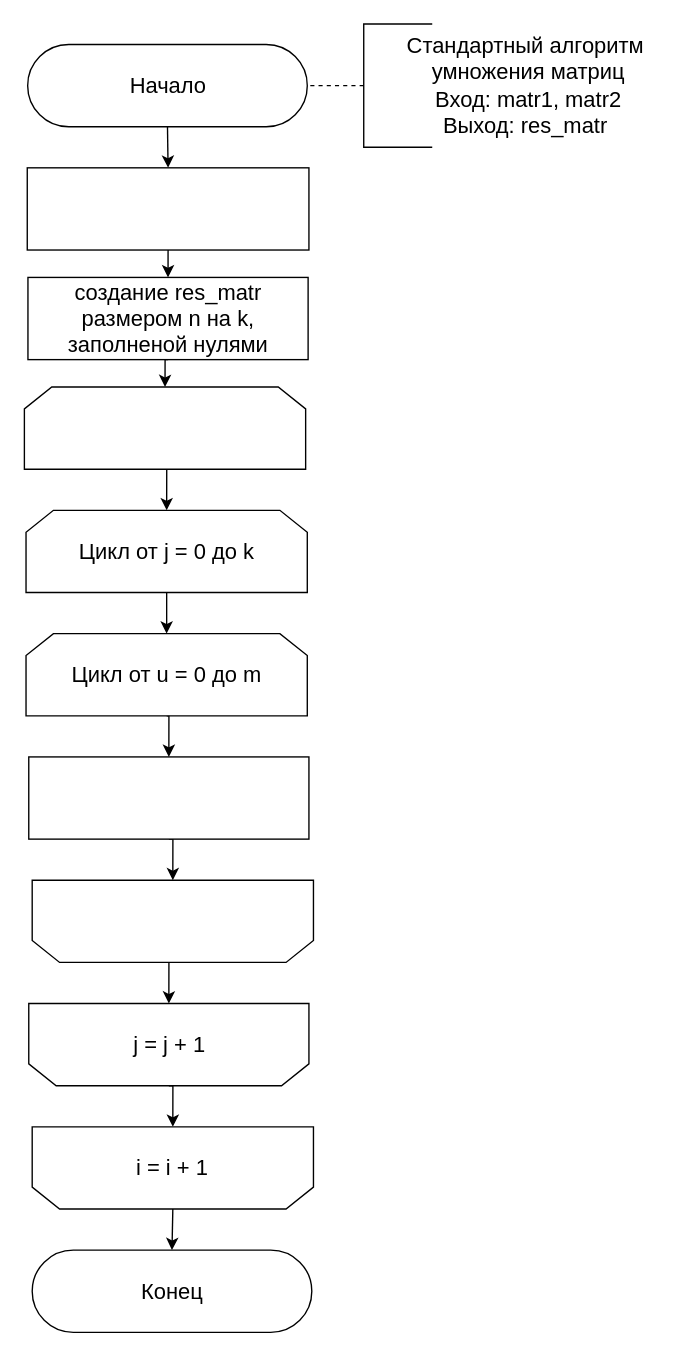
Image size: 689x1356. Some labels were removed from this diagram. Each missing label, with the centre of its shape:
n - кол-во строк matr1 m - кол-во столбцов matr1 k - кол-востолбцов matr2: the point at 167,208
res_matr[I][j] += matr1[I][u] * matr2[u][j]: the point at 168,797
u = u + 1: the point at 172,920
Цикл от i = 0 до n: the point at 164,427
